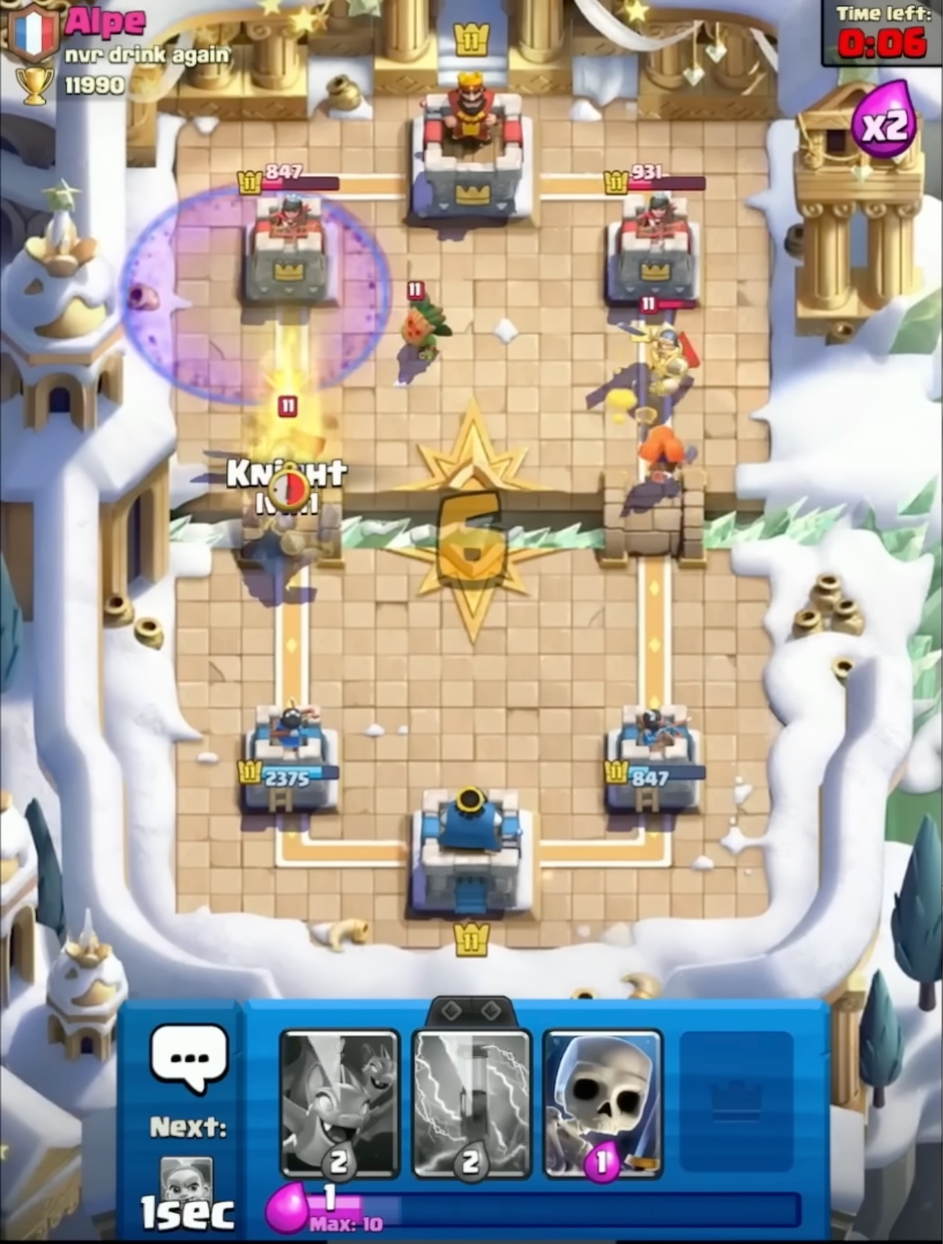dart-goblin: (396, 279, 448, 364)
hero-knight: (236, 386, 334, 506), (622, 290, 702, 413)
